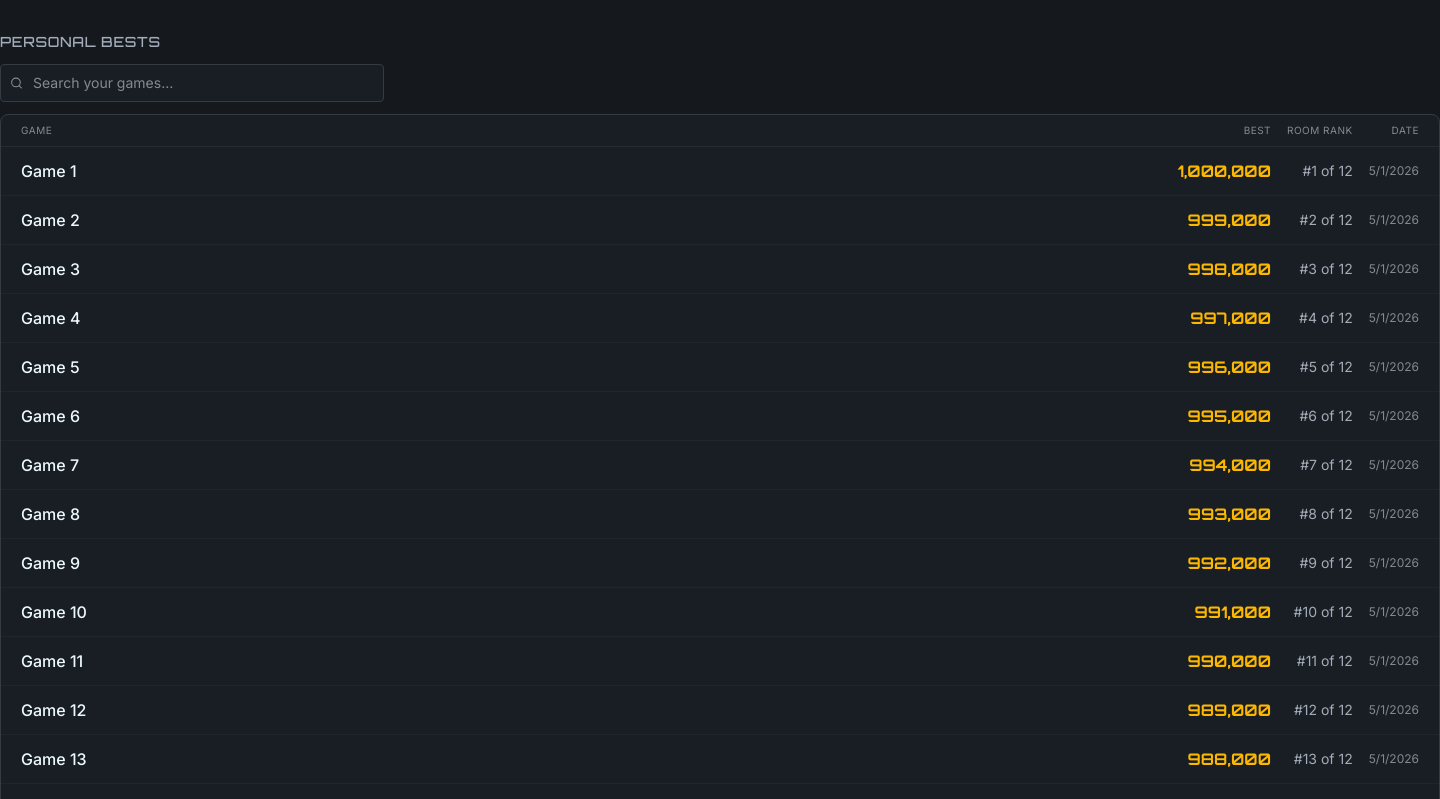
it: PersonalBestsSection › shows every match while filtering, ignoring the 20-row cap
This screenshot has width=1440, height=799.
Type "game" into the field named "Search your personal bests" at (192, 83), box [0,64,384,102]
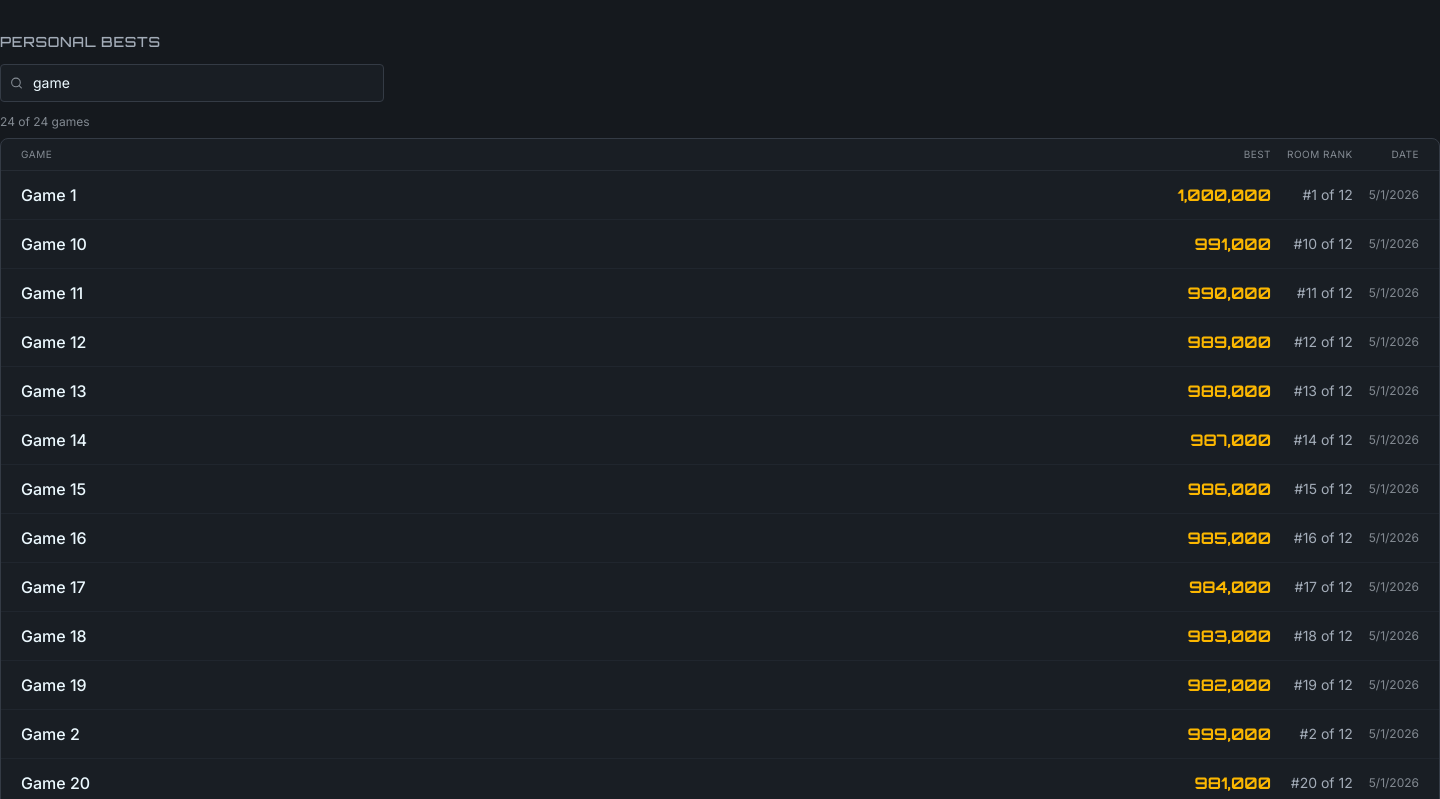
Now the text "24 of 24 games" is shown, box [0,114,90,129]
